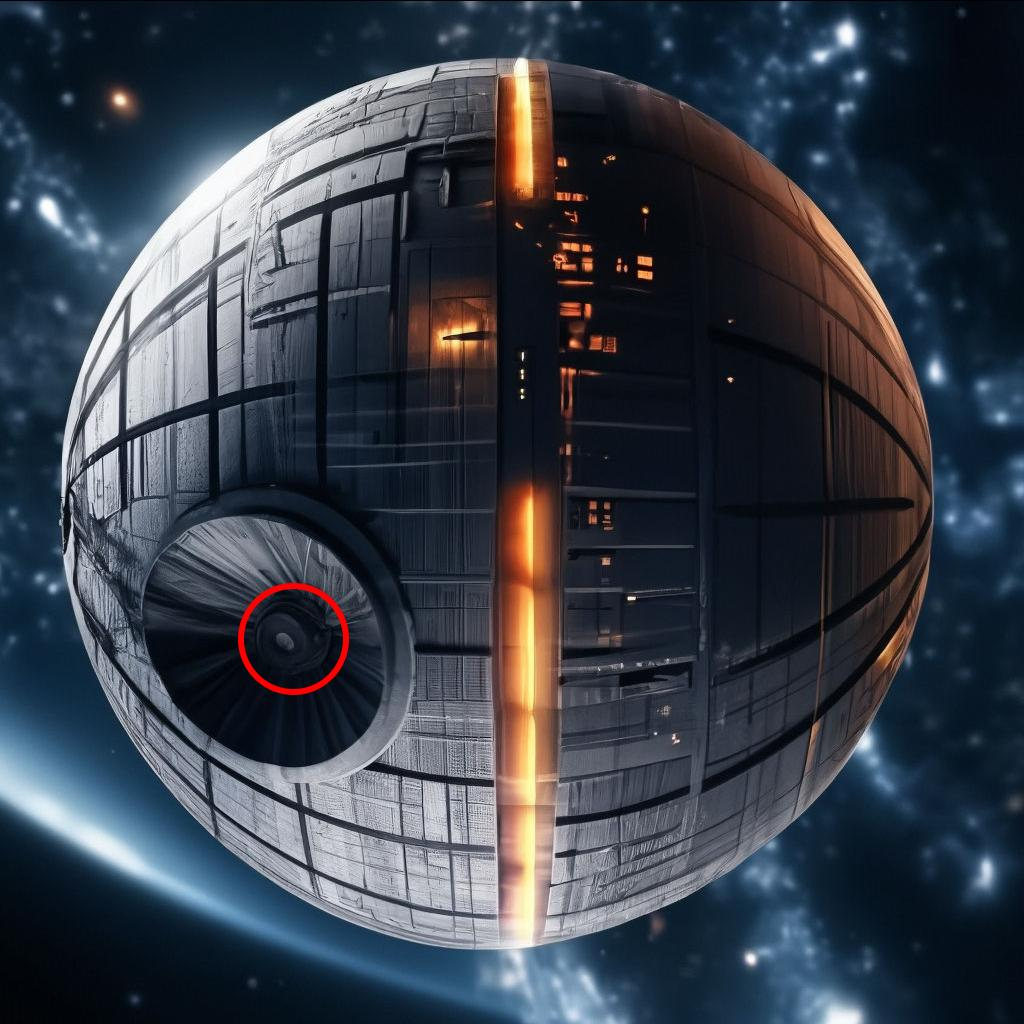Death-star: (59, 55, 940, 952)
